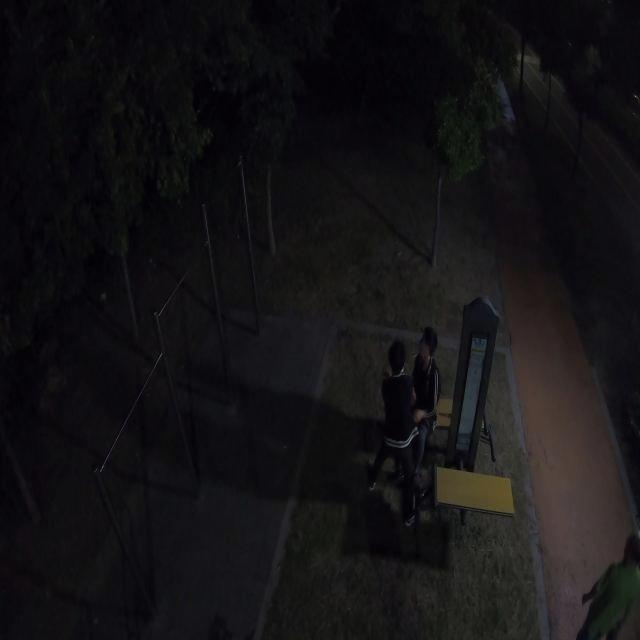fight: (364, 326, 444, 527)
